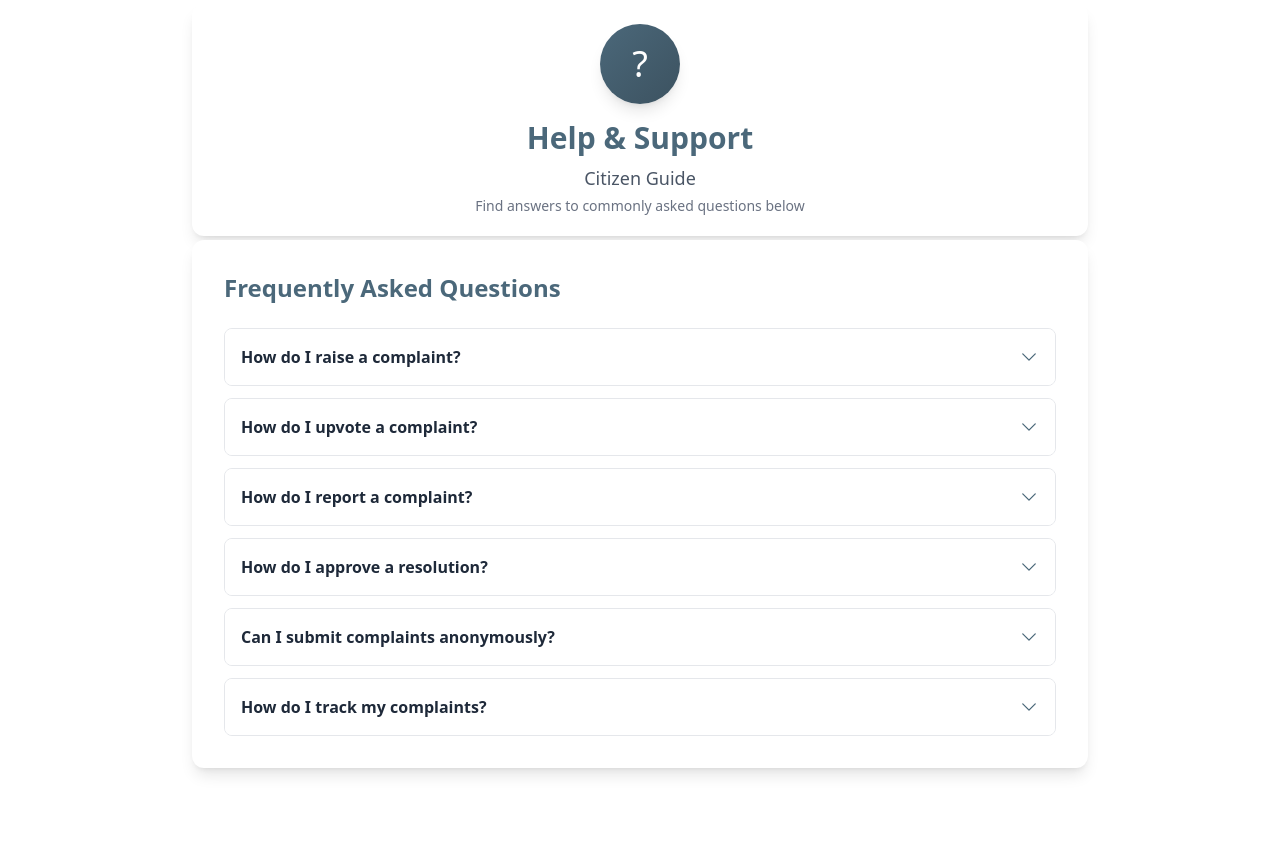
Scenario: Help Component - Complete Coverage › FAQ Content Verification › should display complete answer for raise complaint FAQ
What coordinates should you click on to do the following:
click the button "How do I raise a complaint?"
I would click on:
 (351, 357)
Its box is top-left (225, 329), bottom-right (1055, 385).
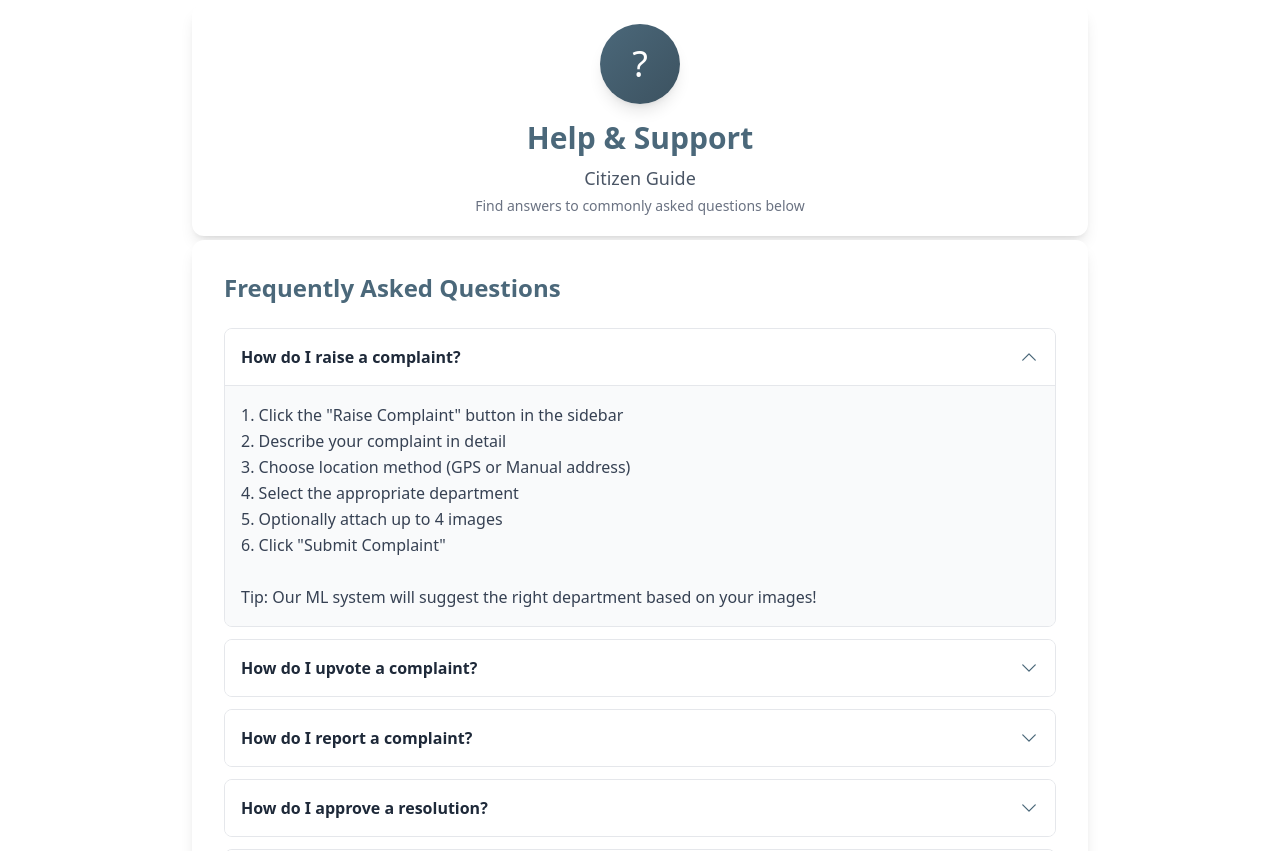
Expected: the text "ML system will suggest the right department" is shown, top-left (241, 404), bottom-right (817, 608)
